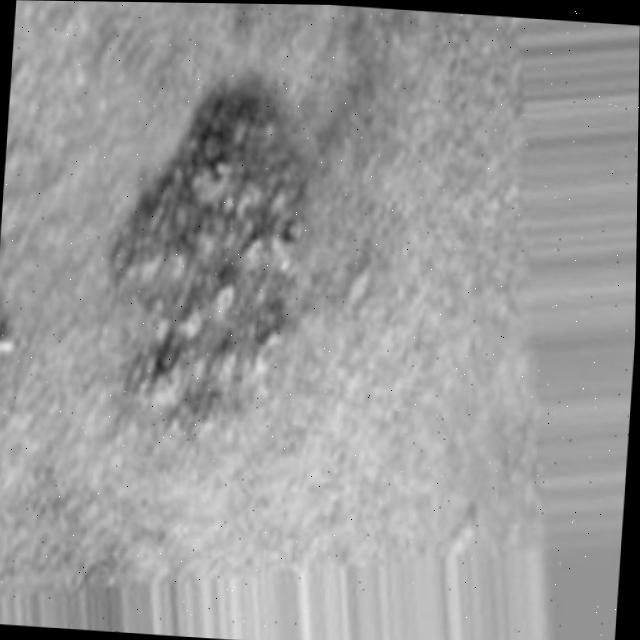Shingles: (124, 92, 312, 448)
